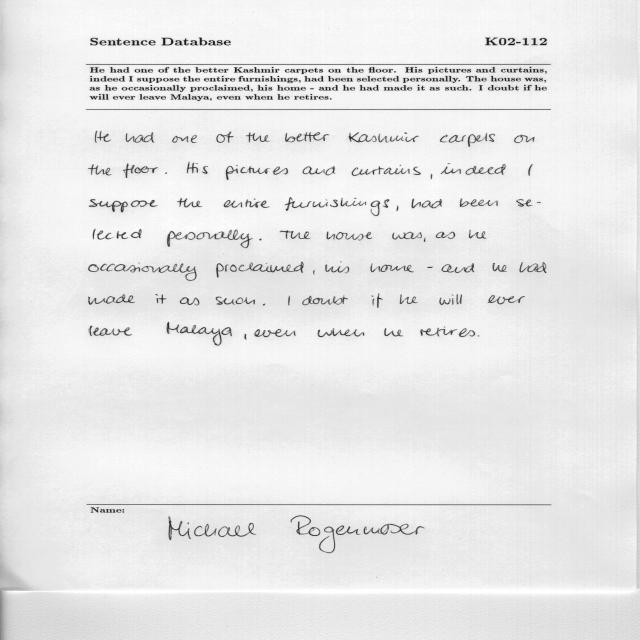word: (89, 263, 197, 281), (285, 198, 390, 216), (167, 230, 253, 249), (166, 322, 232, 346), (216, 262, 304, 277), (226, 165, 288, 180), (89, 199, 158, 212), (441, 163, 506, 175), (440, 133, 495, 147), (352, 165, 421, 176), (349, 133, 419, 143), (420, 326, 475, 337), (93, 229, 142, 240), (89, 294, 135, 305), (123, 164, 158, 178), (302, 295, 348, 305), (285, 132, 329, 142), (89, 326, 132, 336), (224, 199, 270, 208), (318, 328, 364, 337), (327, 232, 372, 241), (370, 264, 414, 273), (460, 198, 498, 207), (254, 329, 296, 337), (488, 295, 525, 304), (442, 263, 475, 273), (303, 166, 335, 176), (216, 297, 255, 305), (126, 132, 154, 143), (520, 262, 547, 273), (89, 164, 112, 176), (412, 199, 442, 208), (280, 230, 310, 239), (326, 262, 350, 273), (439, 294, 462, 305), (187, 162, 208, 174), (392, 232, 422, 240), (246, 133, 269, 143), (177, 198, 202, 207), (172, 135, 197, 143), (516, 199, 541, 207), (95, 131, 111, 143), (217, 132, 234, 143), (400, 294, 418, 304), (180, 297, 199, 306), (384, 328, 403, 337), (514, 135, 535, 143), (371, 294, 383, 308), (469, 230, 487, 239), (436, 232, 455, 239), (493, 263, 507, 272), (156, 294, 167, 304), (528, 164, 533, 176), (288, 296, 290, 306), (397, 205, 399, 211), (245, 334, 247, 340), (431, 175, 433, 180), (424, 237, 426, 242), (313, 270, 315, 275), (259, 239, 262, 241), (427, 267, 433, 268), (165, 172, 167, 174), (263, 304, 265, 306), (478, 335, 479, 337)
